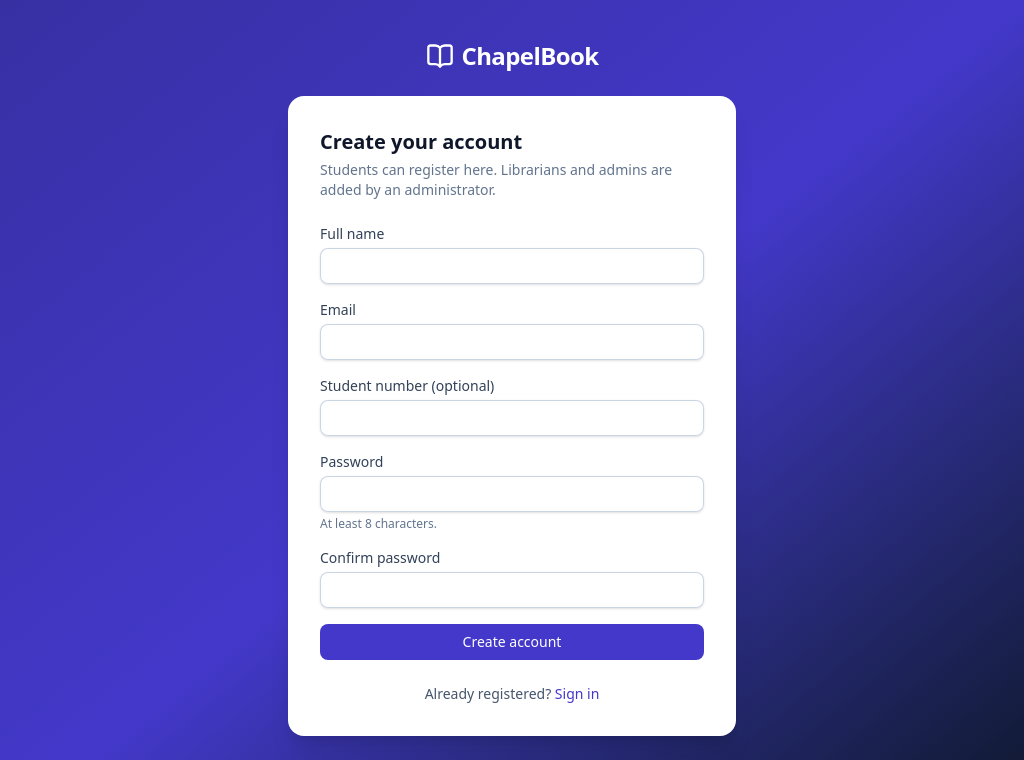
it: RegisterPage › shows the server message when the email is already registered
The image size is (1024, 760).
In the field labelled "Full name": [512, 266] box [320, 248, 704, 284], type "Ann Student"
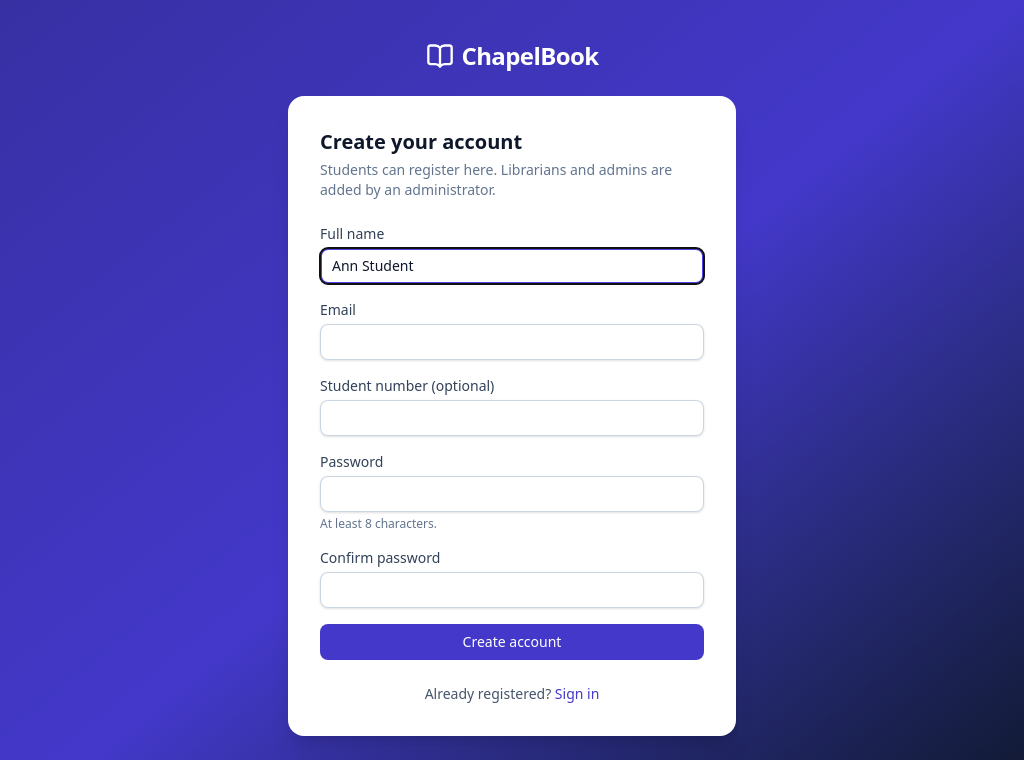
In the field labelled "Email": [512, 342] box [320, 324, 704, 360], type "ann@example.com"
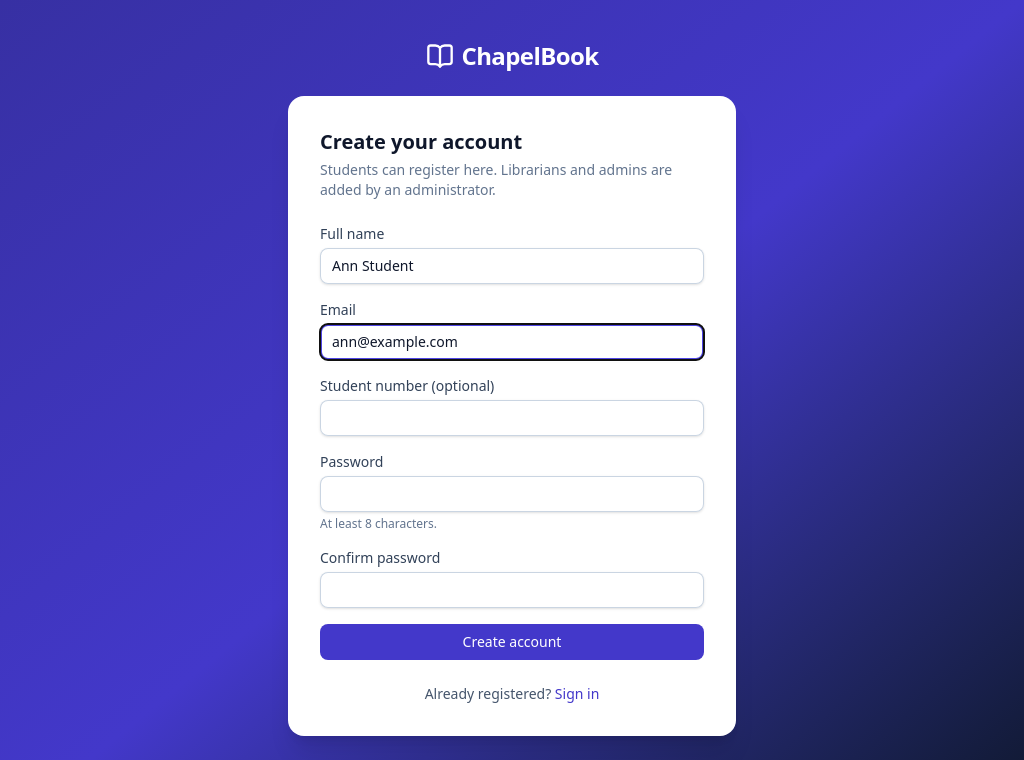
In the password field labelled "Password": [512, 494] box [320, 476, 704, 512], type "correct-horse"
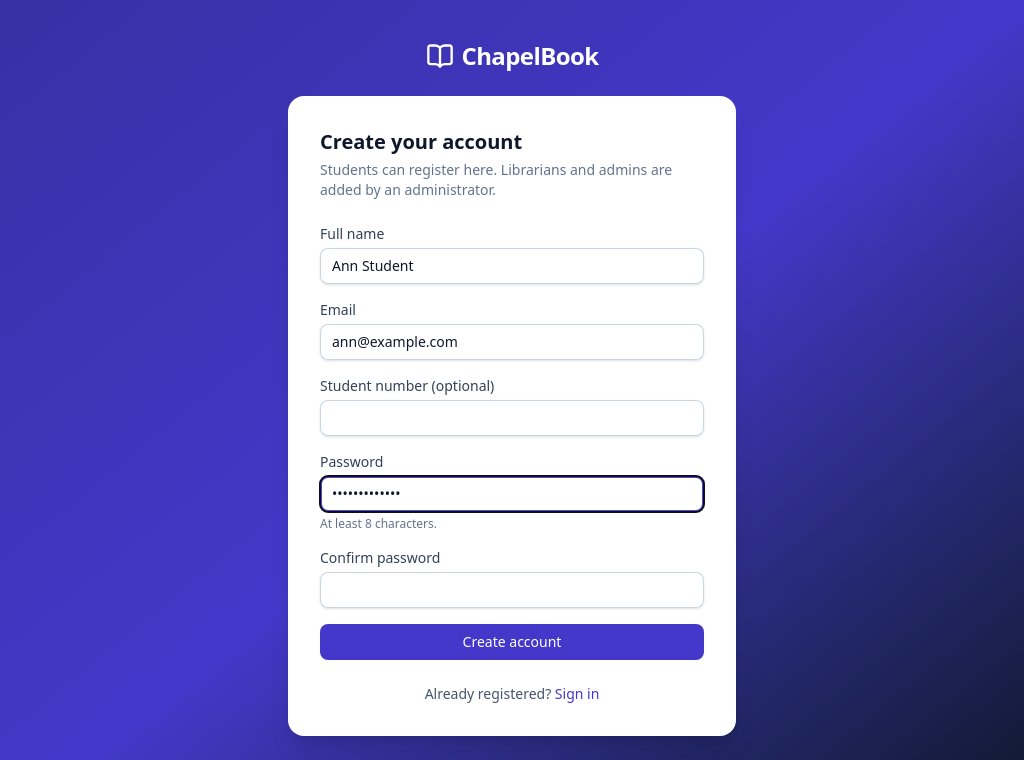
In the password field labelled "Confirm password": [512, 590] box [320, 572, 704, 608], type "correct-horse"
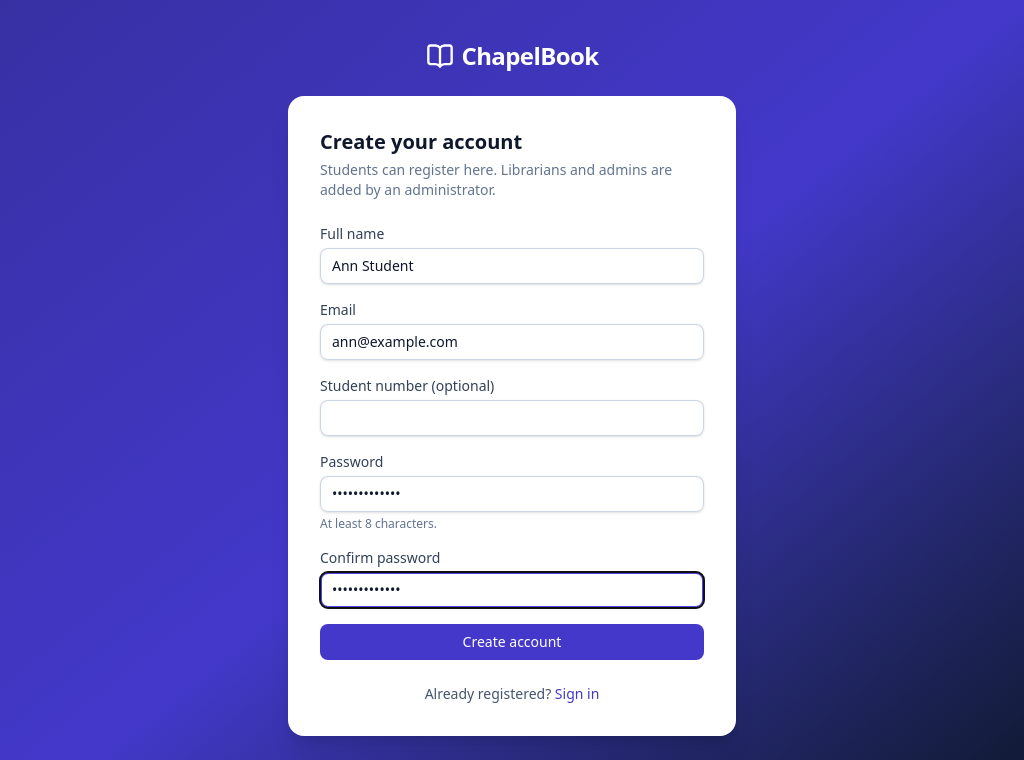
Click the button "Create account": [512, 642] box [320, 624, 704, 660]
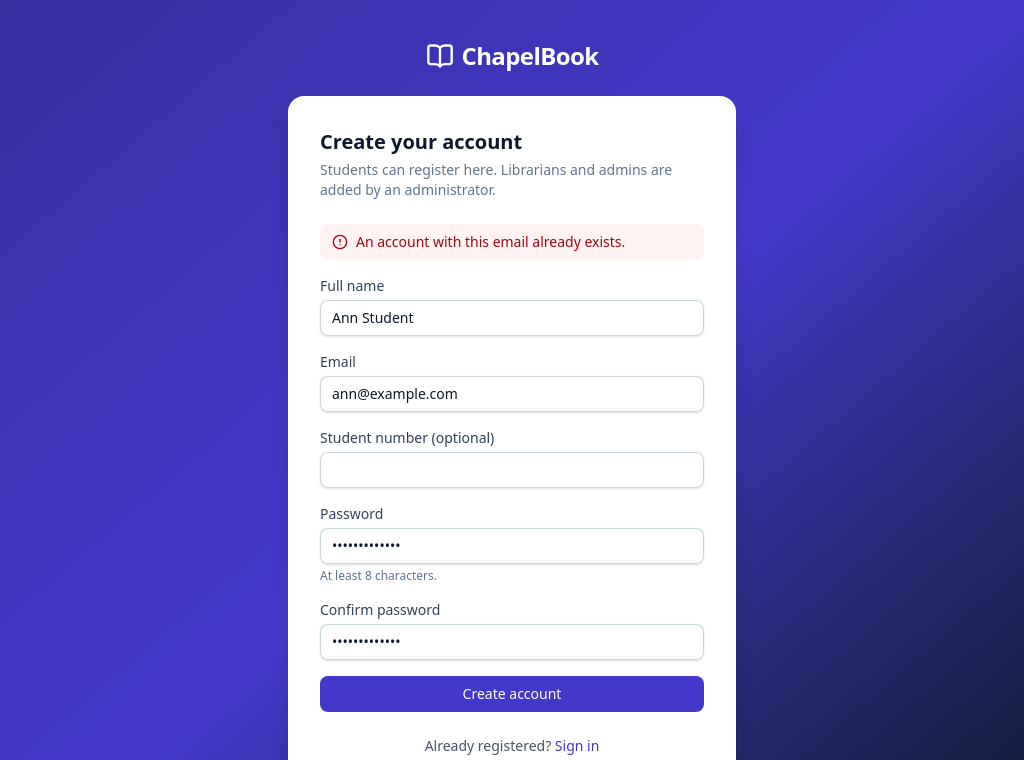
Expected: the message reads "An account with this email already exists.", [356, 232, 625, 251]
